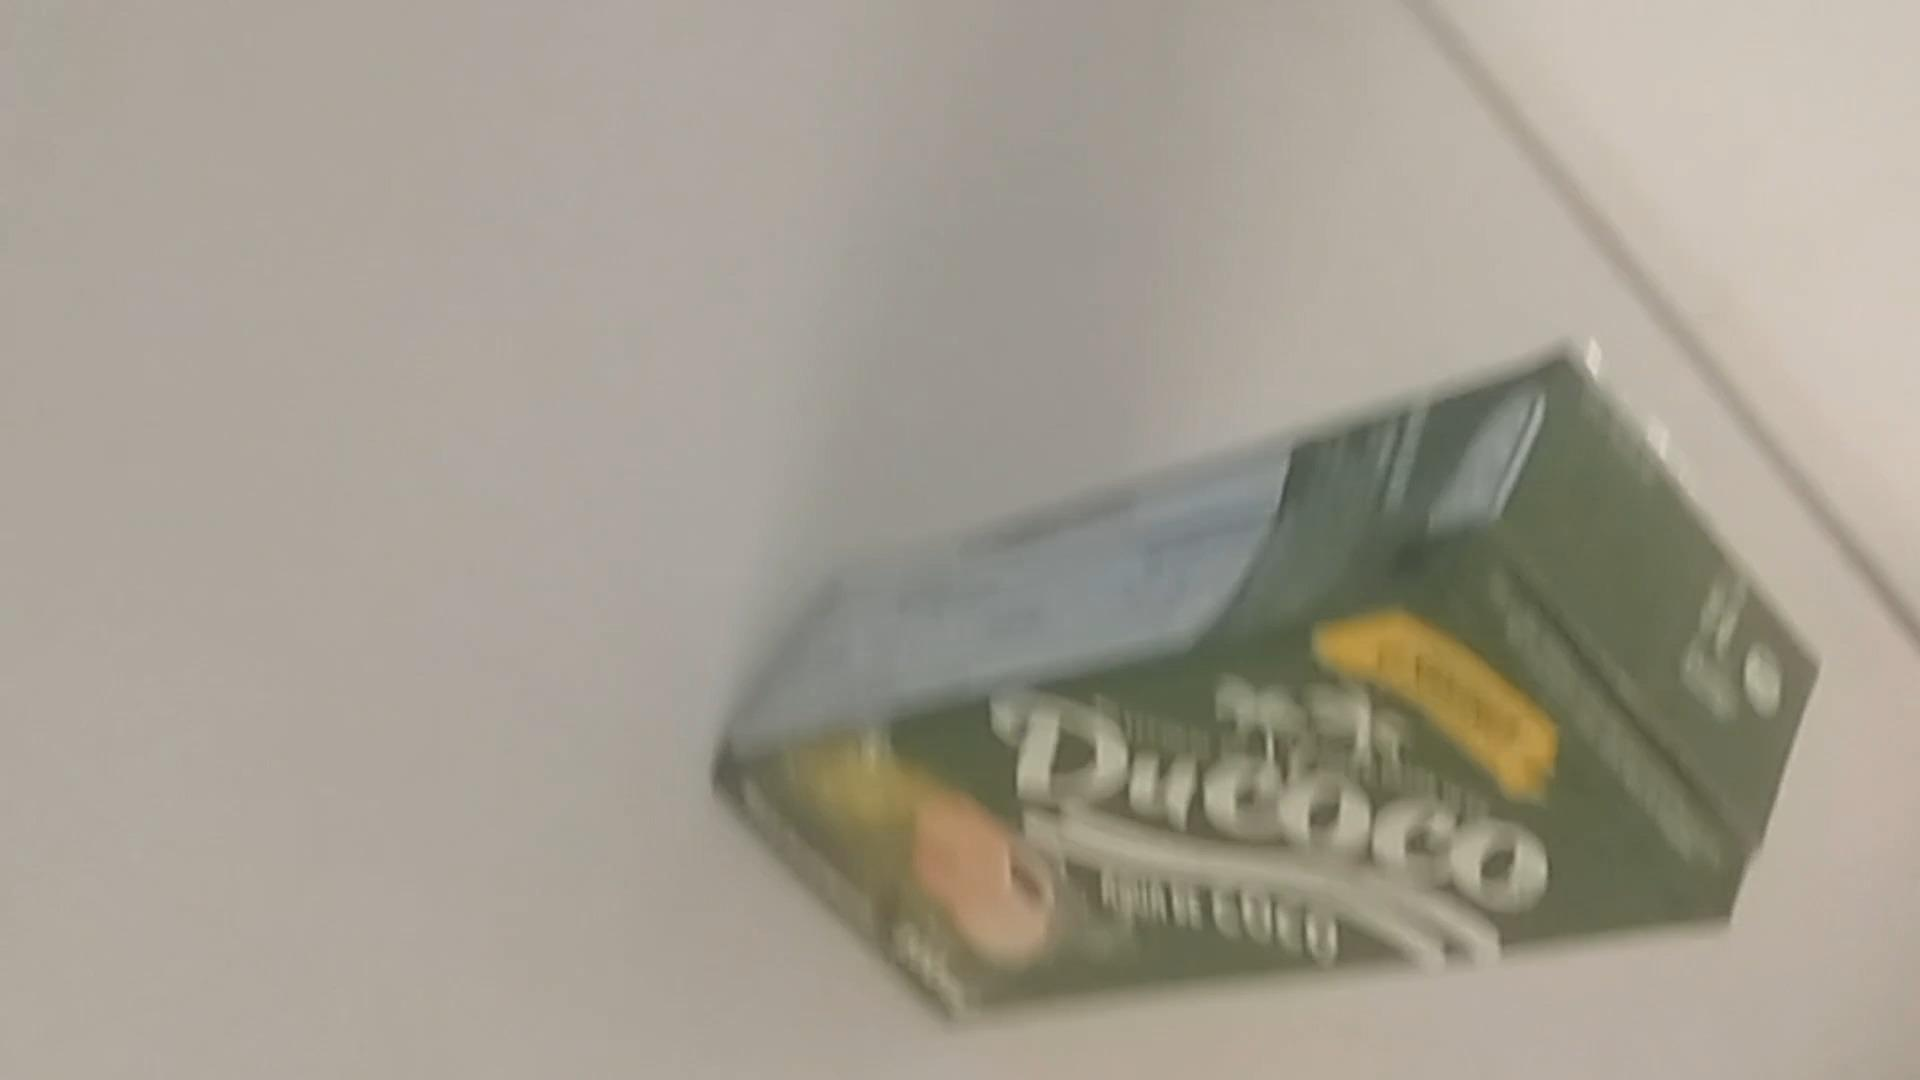coco: (708, 363, 1812, 1027)
